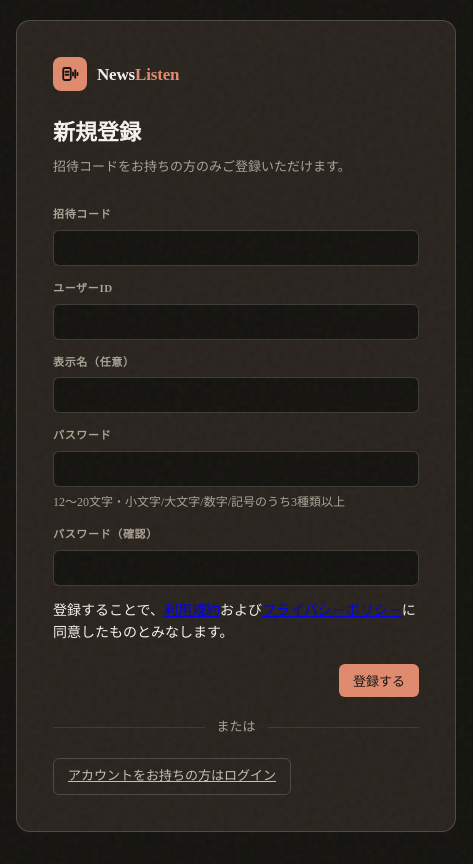
Test: SignupPage — client-side validation › shows the 20-character upper-limit message and does not register when the password is 21 characters
The image size is (473, 864).
Type "newbie" into the field labelled "ユーザーID". click: (236, 322)
box: [53,304,419,340]
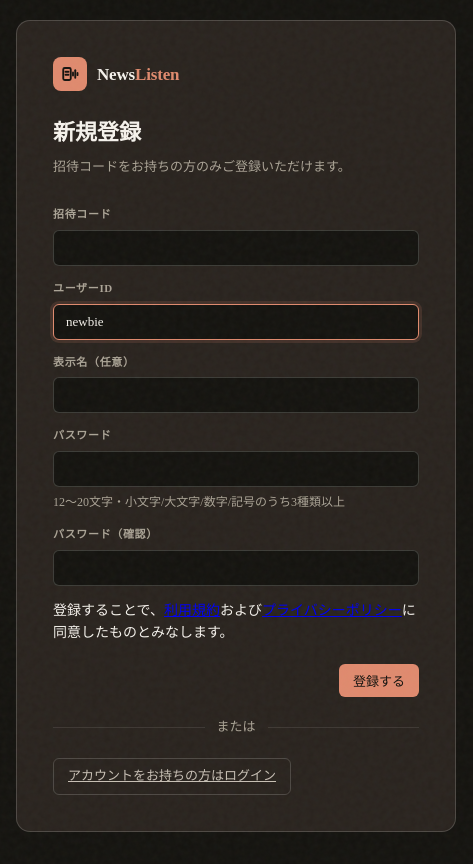
Type "Abcdefghij12345678901" into the password field labelled "パスワード". click: (236, 469)
box: [53,451,419,487]
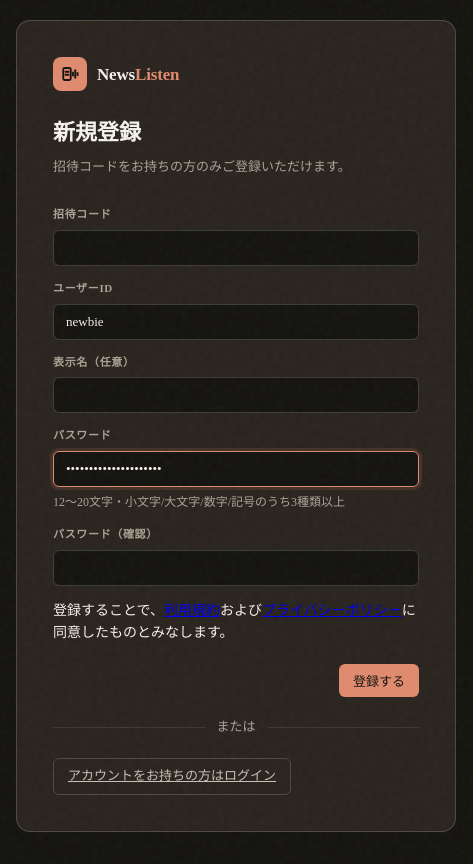
Type "Abcdefghij12345678901" into the password field labelled "パスワード（確認）". click: (236, 568)
box: [53,550,419,586]
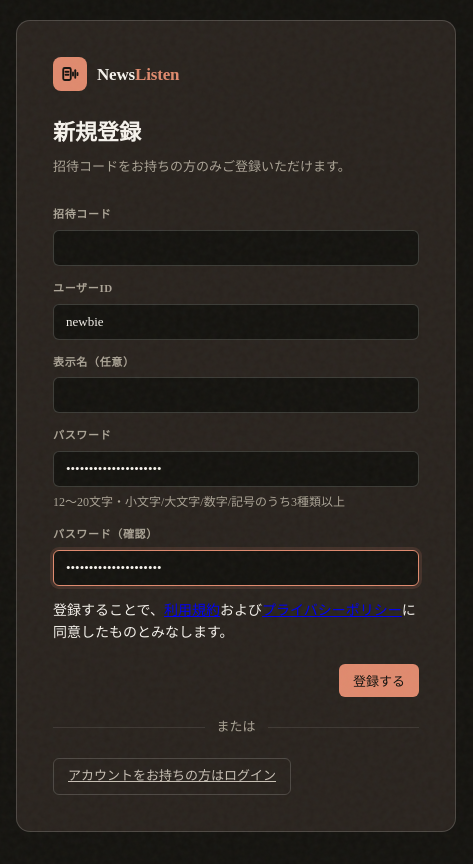
Click the button "登録する". click: (379, 681)
box: [339,664,419,697]
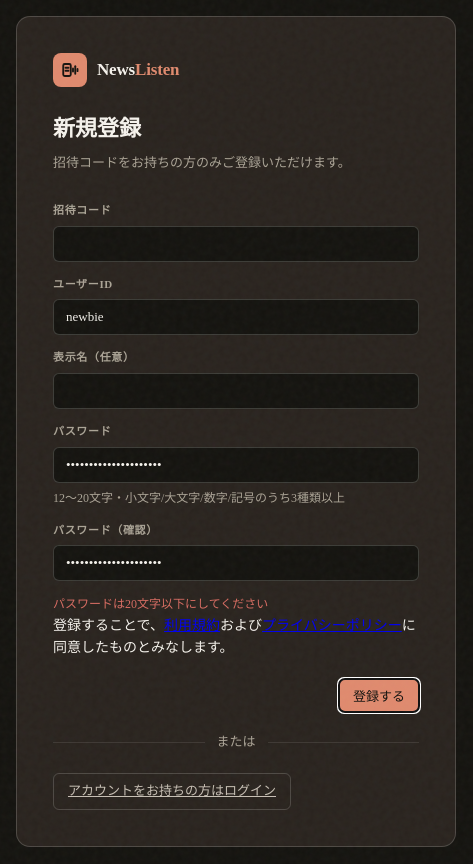
Now the text "パスワードは20文字以下にしてください" is shown, box [53,597,268,611]
